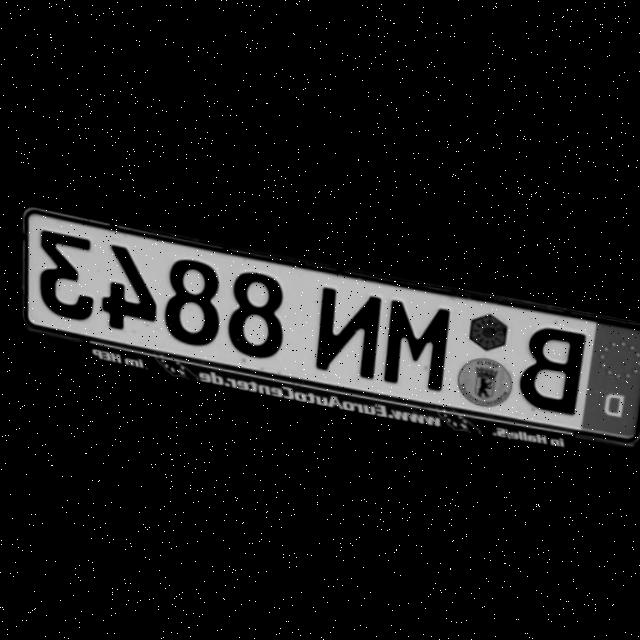license-plates: (25, 215, 640, 442)
